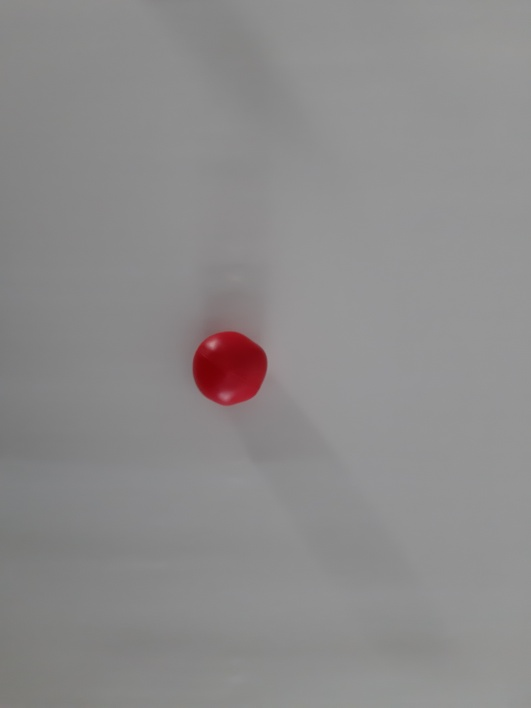tomato: (186, 325, 277, 416)
